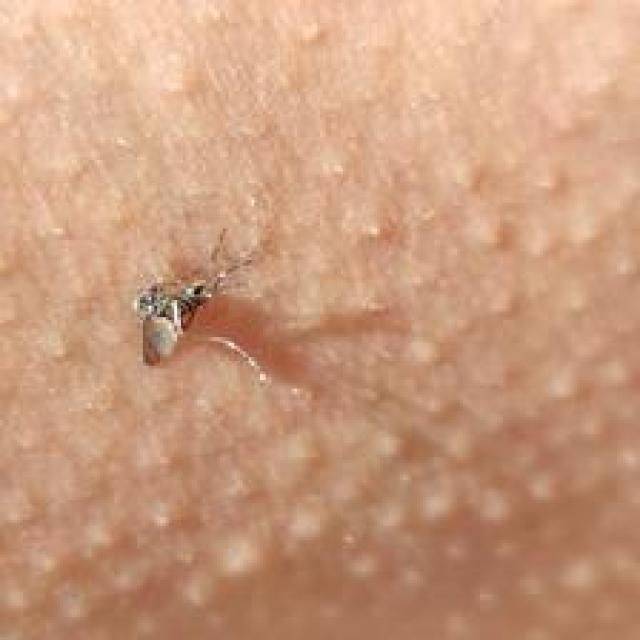Aedes albopictus: (130, 225, 256, 368)
